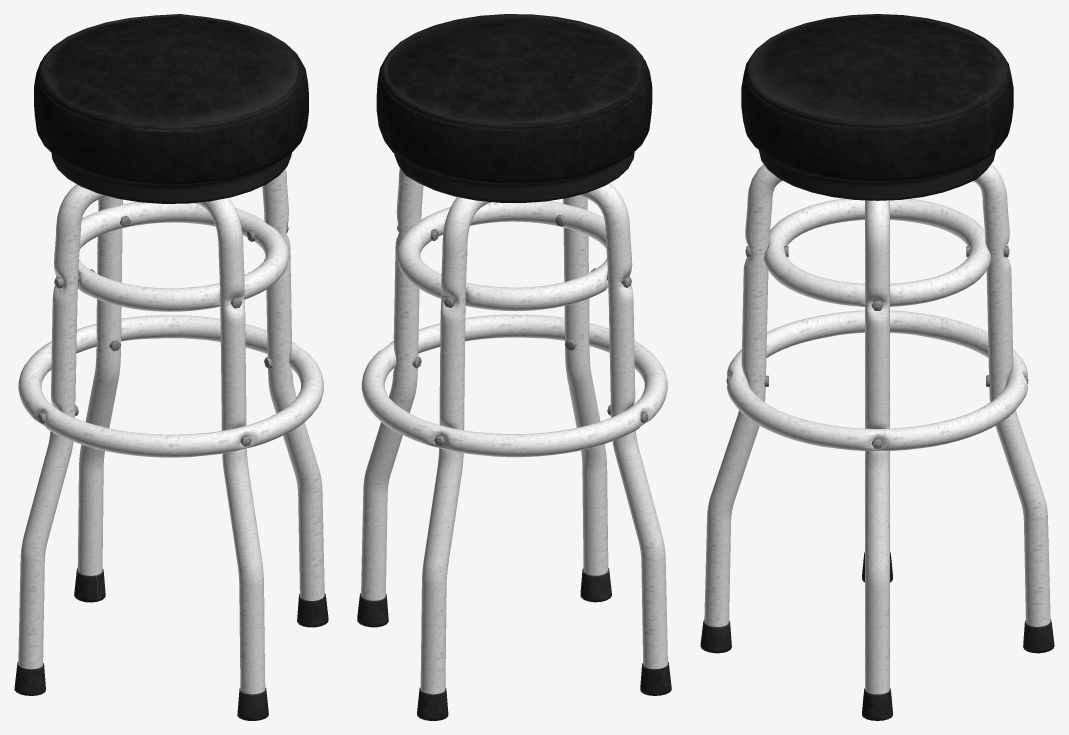
Rendered from taburete2.glb.
The picture shows the model from 3 angles, left to right: view 1: azimuth 30°, elevation 25°; view 2: azimuth 150°, elevation 25°; view 3: azimuth 270°, elevation 25°; orthographic projection.
Parts seen in each view (by area): view 1: pillow_lp, leg_02_lp, leg_01_lp, ring_02_lp, ring_01_lp, foot_04_lp, foot_01_lp, foot_02_lp, foot_03_lp; view 2: pillow_lp, leg_02_lp, leg_01_lp, ring_02_lp, ring_01_lp, foot_01_lp, foot_03_lp, foot_02_lp, foot_04_lp; view 3: pillow_lp, leg_01_lp, ring_02_lp, leg_02_lp, ring_01_lp, foot_02_lp, foot_04_lp, foot_01_lp.
Boxes of the visible parts, x1,y1,x2,y2 form: pillow_lp: (34, 14, 308, 203); leg_02_lp: (18, 168, 324, 669); leg_01_lp: (77, 196, 265, 694); ring_02_lp: (18, 315, 323, 457); ring_01_lp: (54, 202, 289, 311); foot_04_lp: (237, 688, 268, 720); foot_01_lp: (297, 593, 328, 627); foot_02_lp: (74, 568, 105, 602); foot_03_lp: (14, 662, 45, 695); pillow_lp: (376, 14, 652, 202); leg_02_lp: (361, 167, 667, 669); leg_01_lp: (420, 195, 608, 694); ring_02_lp: (361, 314, 667, 457); ring_01_lp: (396, 201, 608, 311); foot_01_lp: (357, 593, 388, 627); foot_03_lp: (640, 662, 671, 695); foot_02_lp: (417, 687, 448, 720); foot_04_lp: (580, 568, 611, 602); pillow_lp: (741, 14, 1013, 200); leg_01_lp: (704, 164, 1050, 626); ring_02_lp: (727, 310, 1027, 450); leg_02_lp: (865, 200, 889, 694); ring_01_lp: (763, 198, 991, 306); foot_02_lp: (1023, 619, 1054, 653); foot_04_lp: (700, 619, 731, 653); foot_01_lp: (862, 688, 892, 720).
Size of the model in its own units: 0.2329 by 0.4312 by 0.2329.
1 material, 1 textured.
